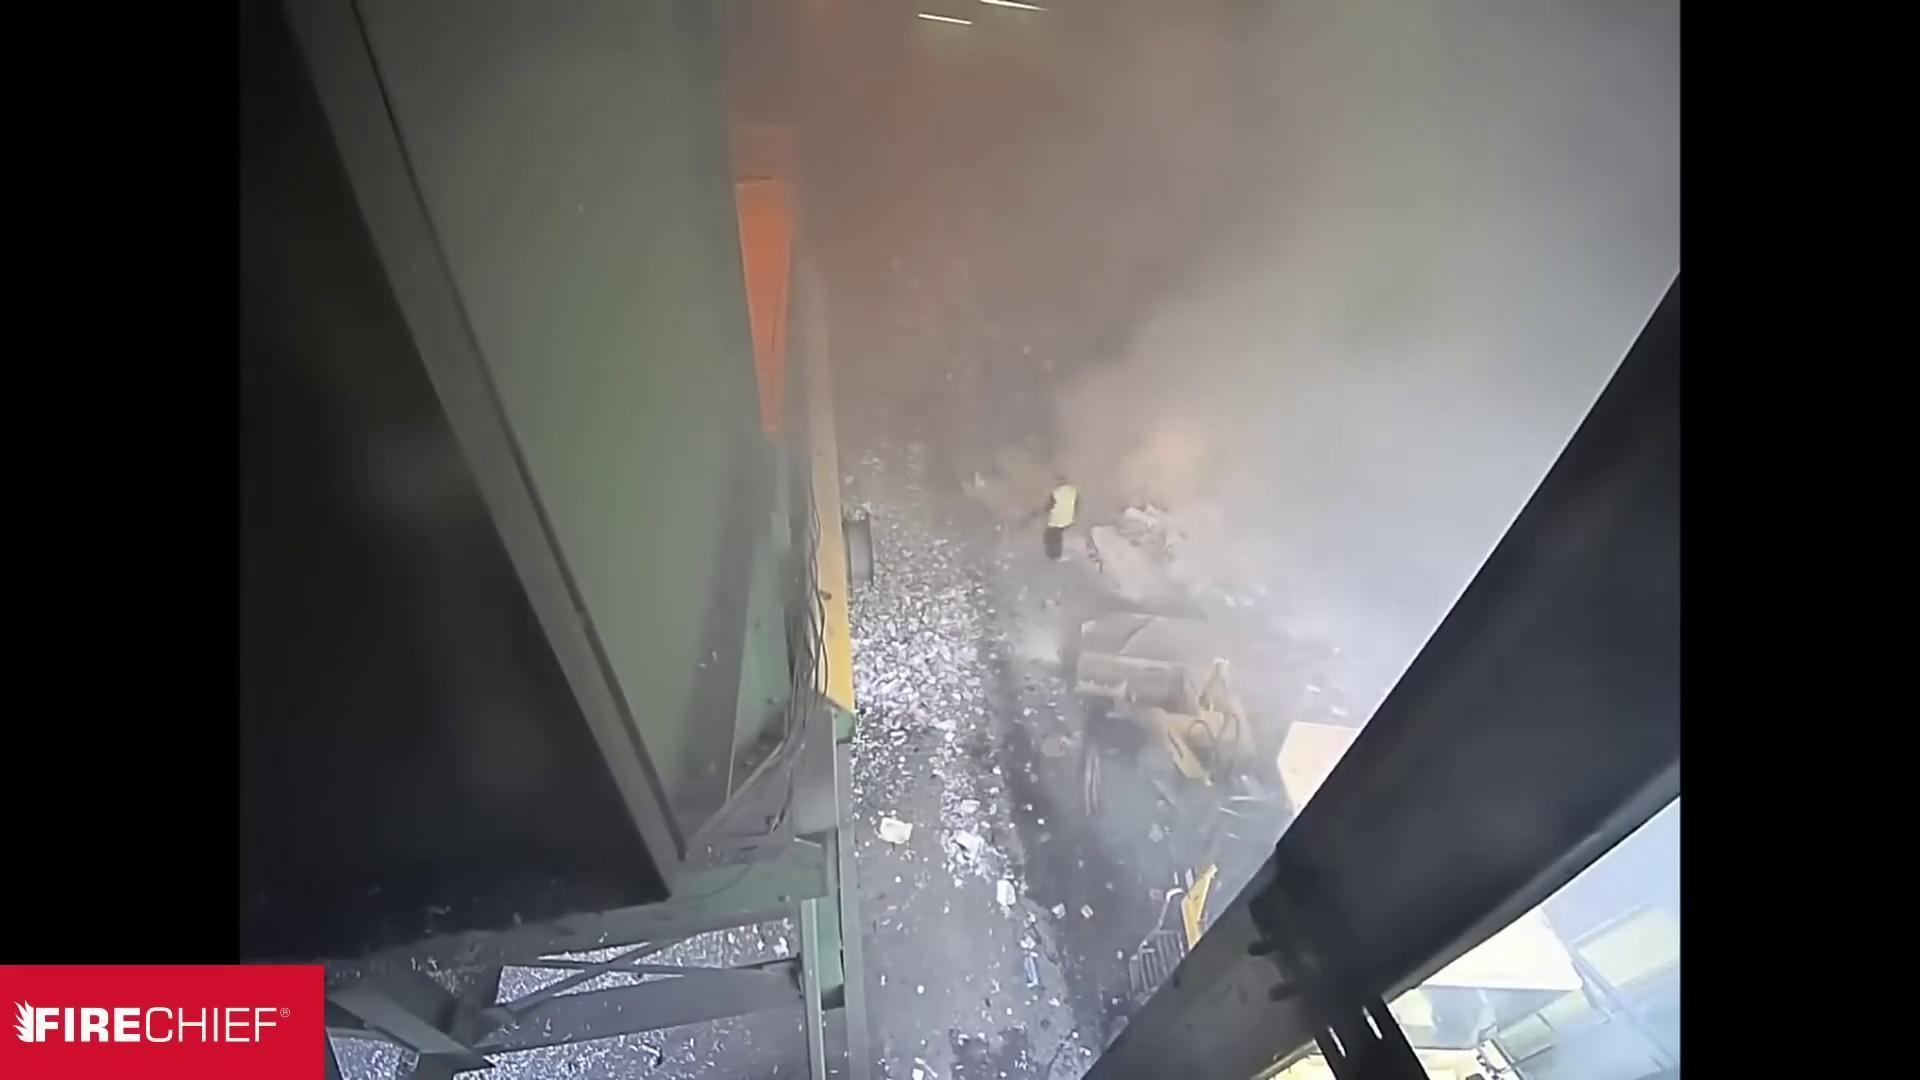smoke: (1076, 204, 1506, 563)
